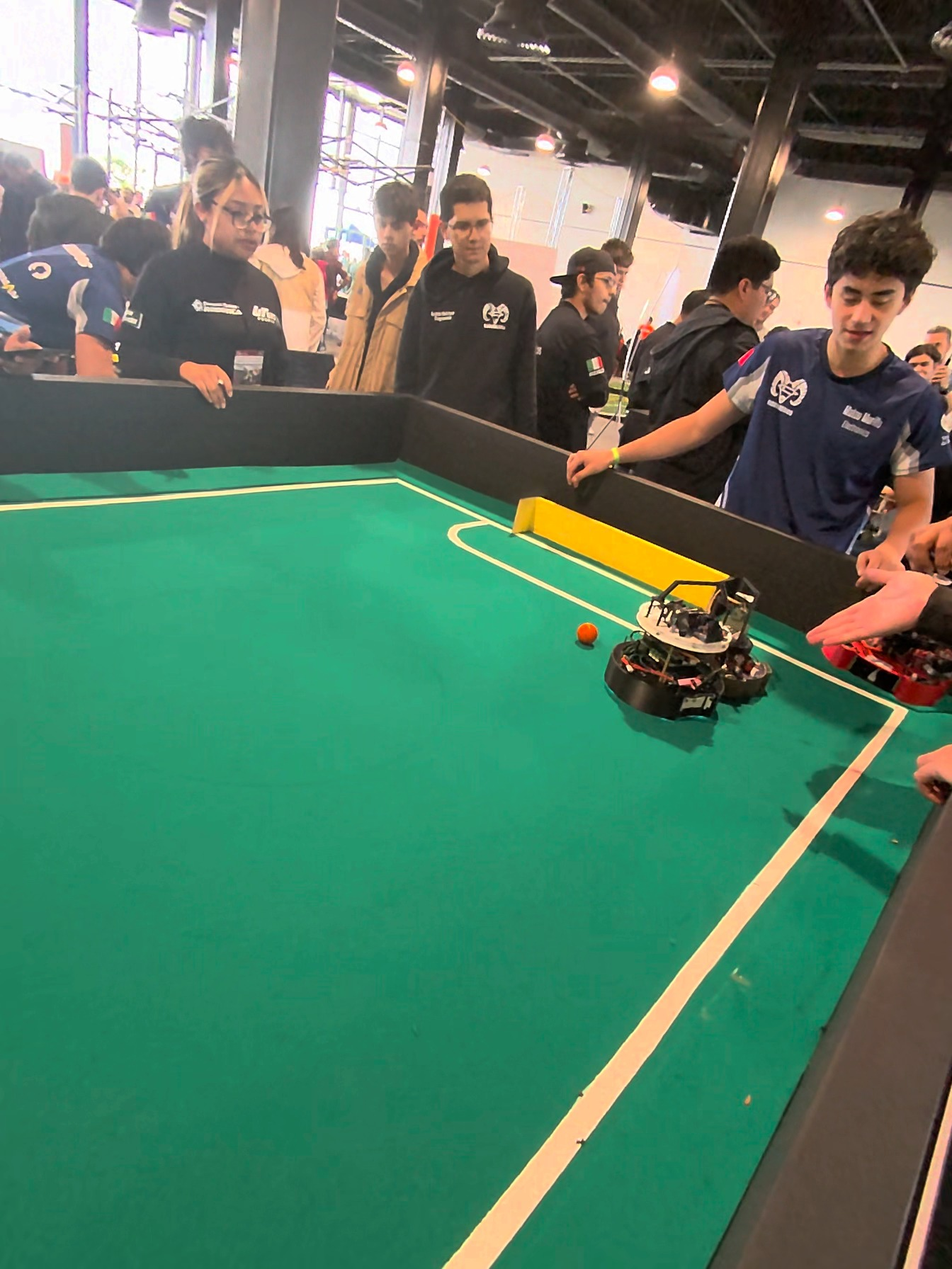Robot: (603, 569, 765, 745), (857, 597, 952, 717)
pelota: (578, 625, 599, 645)
